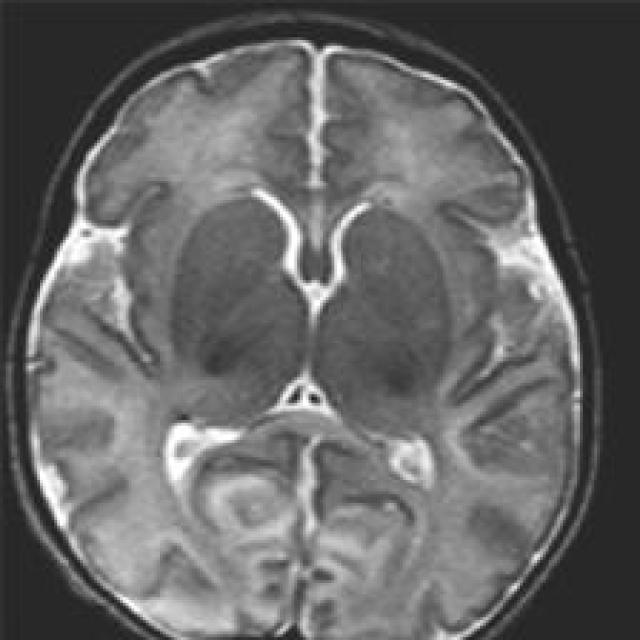no_tumor: (13, 10, 616, 640)
